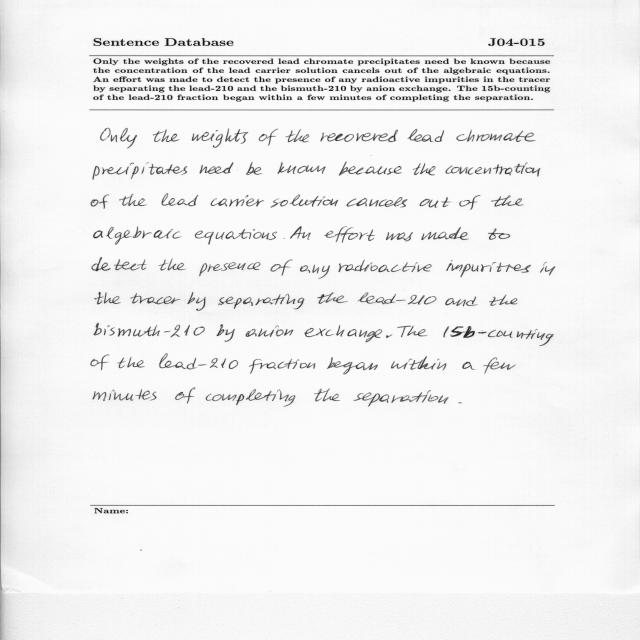word: (444, 326, 554, 346), (206, 389, 295, 407), (93, 163, 187, 180), (354, 390, 448, 407), (94, 227, 182, 245), (94, 323, 205, 337), (446, 260, 531, 277), (446, 162, 541, 177), (304, 325, 382, 342), (195, 229, 277, 245), (219, 294, 305, 309), (159, 354, 238, 370), (192, 128, 248, 148), (339, 260, 432, 272), (456, 129, 536, 142), (358, 292, 436, 305), (249, 359, 316, 374), (320, 130, 398, 142), (339, 162, 402, 176), (271, 195, 338, 208), (199, 262, 261, 276), (324, 226, 375, 243), (327, 358, 378, 375), (391, 357, 446, 371), (92, 258, 146, 272), (101, 128, 137, 148), (93, 390, 156, 401), (347, 197, 408, 208), (421, 227, 469, 240), (277, 162, 326, 174), (211, 195, 264, 206), (246, 325, 293, 337), (483, 357, 516, 374), (131, 293, 181, 304), (407, 129, 444, 142), (162, 194, 198, 206), (300, 265, 330, 279), (200, 162, 234, 174), (491, 195, 524, 207), (271, 259, 293, 276), (317, 292, 348, 304), (187, 292, 206, 311), (420, 197, 451, 208), (314, 389, 340, 402), (119, 194, 147, 206), (459, 195, 481, 210), (445, 297, 478, 307), (398, 326, 428, 337), (159, 259, 186, 271), (217, 324, 235, 342), (259, 129, 278, 146), (489, 295, 518, 306), (153, 130, 179, 142), (95, 292, 121, 304), (117, 357, 145, 368), (175, 388, 195, 403), (290, 226, 311, 240), (286, 130, 310, 142), (91, 355, 109, 371), (91, 194, 109, 209), (413, 163, 435, 175), (488, 228, 510, 240), (386, 232, 413, 241), (246, 162, 263, 175), (540, 262, 555, 275), (463, 362, 476, 370), (386, 335, 392, 338), (459, 403, 463, 404), (283, 238, 285, 239)
